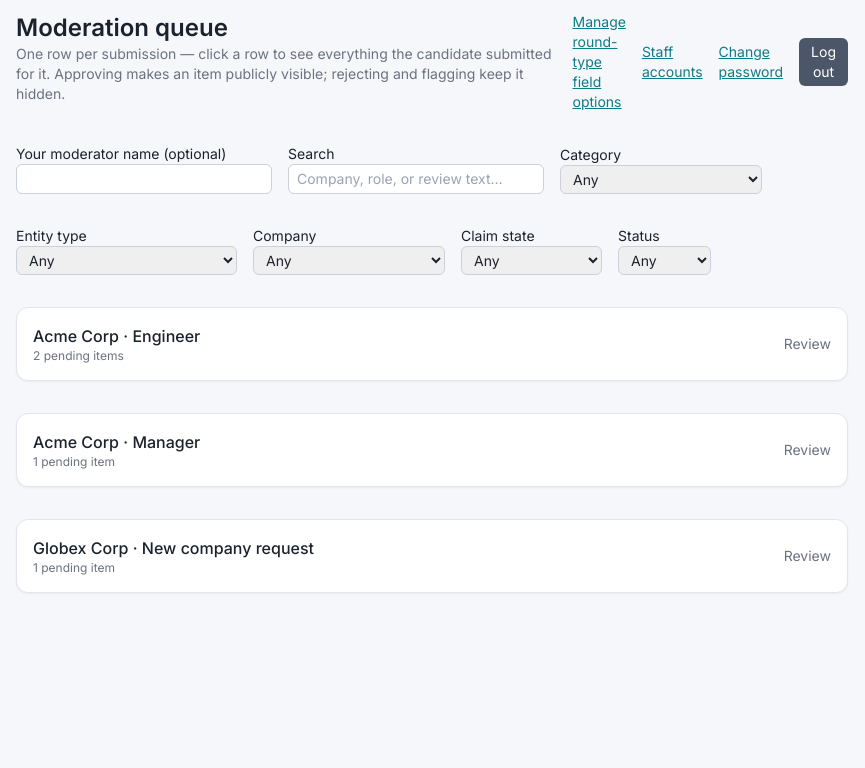
it: ModerationPage (Phase 14 issue #128; session gating Phase 18 issue #160; grouped-by-submission Phase 29 issue #315) › claim / release › an unclaimed entry shows a Claim button and no badge
Click the button "Acme Corp · Manager 1 pending item Review". click: (76, 442)
box: [33,430,831,470]
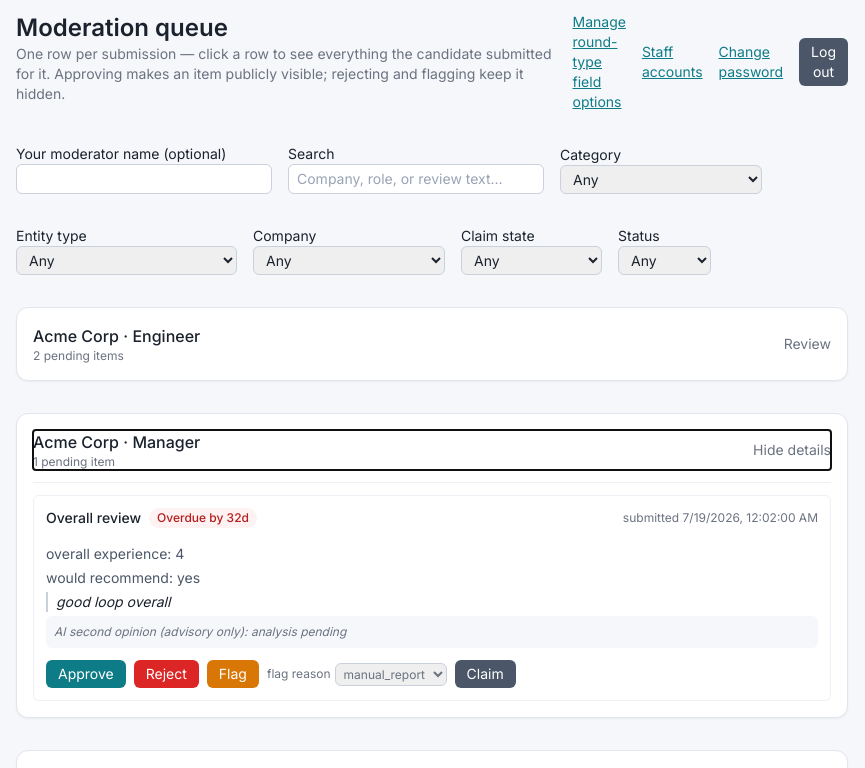
expect the number of buttons "Claim" is 1: met, box [455,660,516,688]
